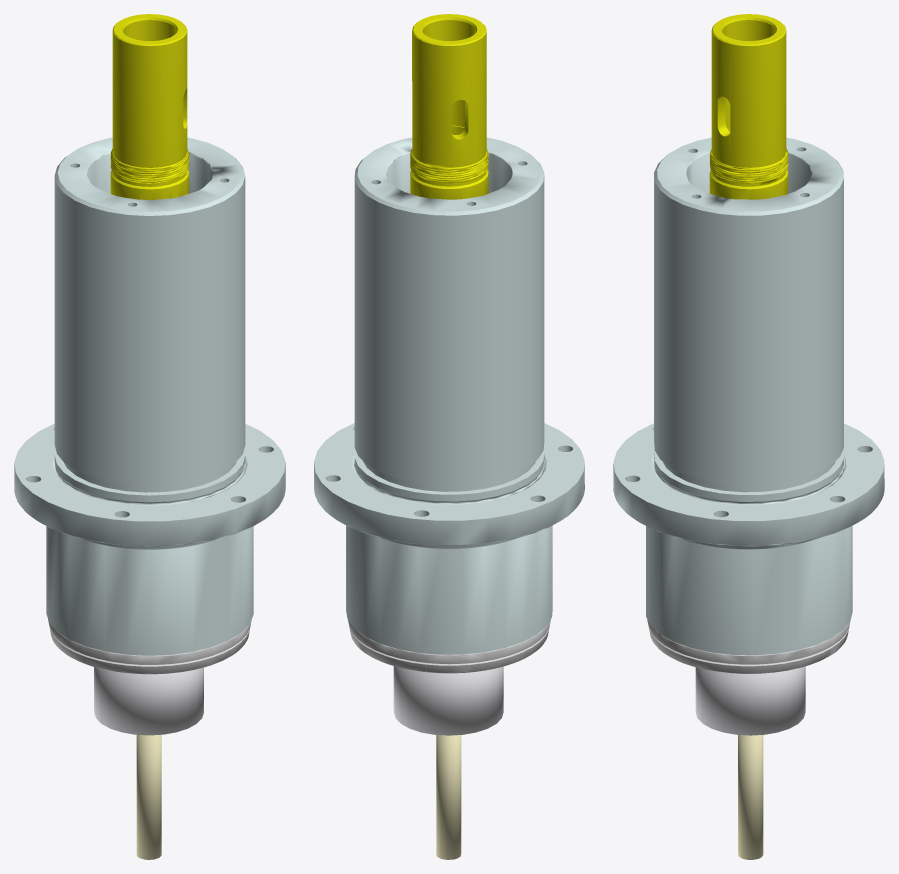
The model's file is spindle.dae.
3 renders of one model, left to right at view 1: azimuth 30°, elevation 25°; view 2: azimuth 150°, elevation 25°; view 3: azimuth 270°, elevation 25°, orthographic.
Parts seen in each view (by area): view 1: Spindle; view 2: Spindle; view 3: Spindle.
Boxes of the visible parts, box(x1,y1,x2,y2) form: Spindle: box(14, 14, 285, 859); Spindle: box(314, 14, 584, 859); Spindle: box(613, 14, 884, 859).
Size of the model in its own units: 0.1727 by 0.1726 by 0.5799.
